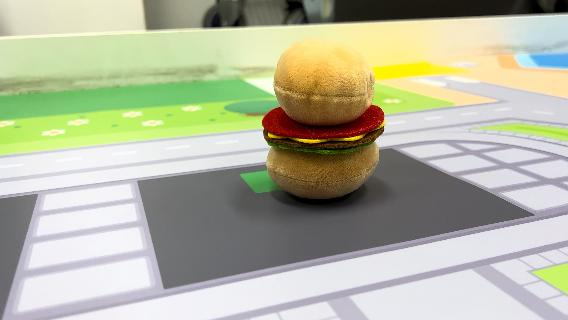burger: (259, 36, 389, 202)
